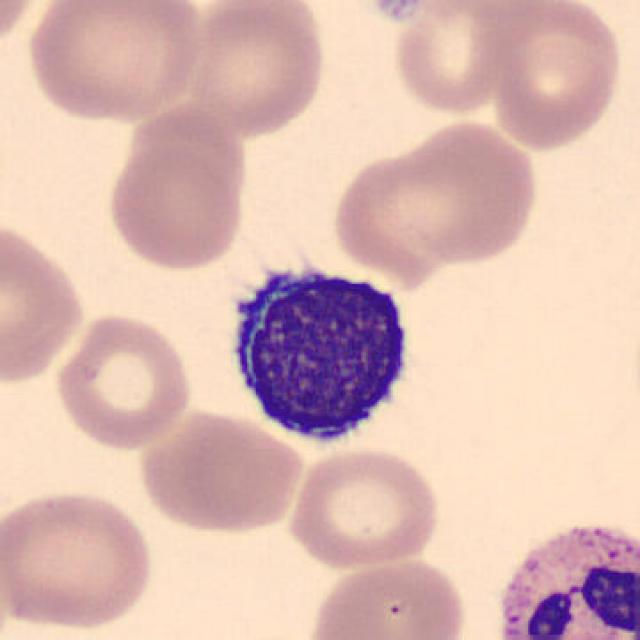Eosinophil: (483, 509, 640, 640)
Lymphocyte: (214, 248, 422, 451)
Platelets: (368, 0, 427, 25)
RBC: (329, 115, 544, 275), (0, 485, 158, 633), (19, 0, 204, 125), (133, 405, 306, 536), (480, 0, 627, 153), (103, 125, 251, 275), (50, 309, 196, 453), (282, 443, 444, 571), (185, 0, 329, 139), (386, 0, 532, 118), (0, 213, 89, 388), (302, 552, 471, 640), (0, 0, 46, 60)
